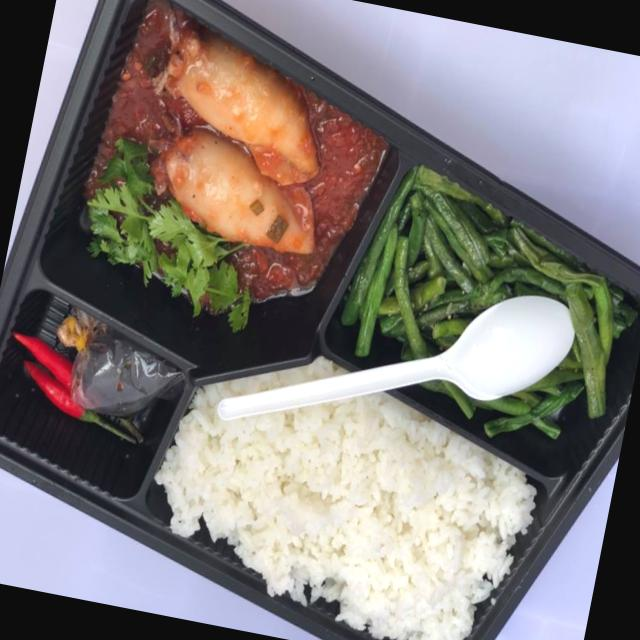com: (155, 360, 535, 640)
dau que: (341, 166, 637, 438)
ot: (13, 334, 142, 443)
rau ngo: (87, 139, 250, 330)
